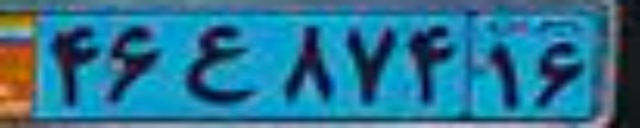1: (488, 43, 518, 108)
4: (408, 25, 454, 105), (50, 25, 93, 107)
6: (105, 26, 166, 102), (530, 42, 584, 106)
7: (344, 25, 397, 103)
8: (284, 25, 334, 103)
ain: (183, 24, 255, 103)
